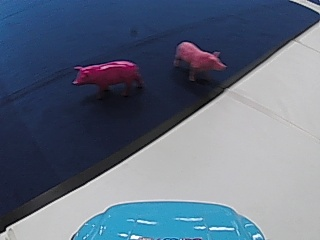pig: (68, 57, 145, 99), (174, 37, 227, 82)
